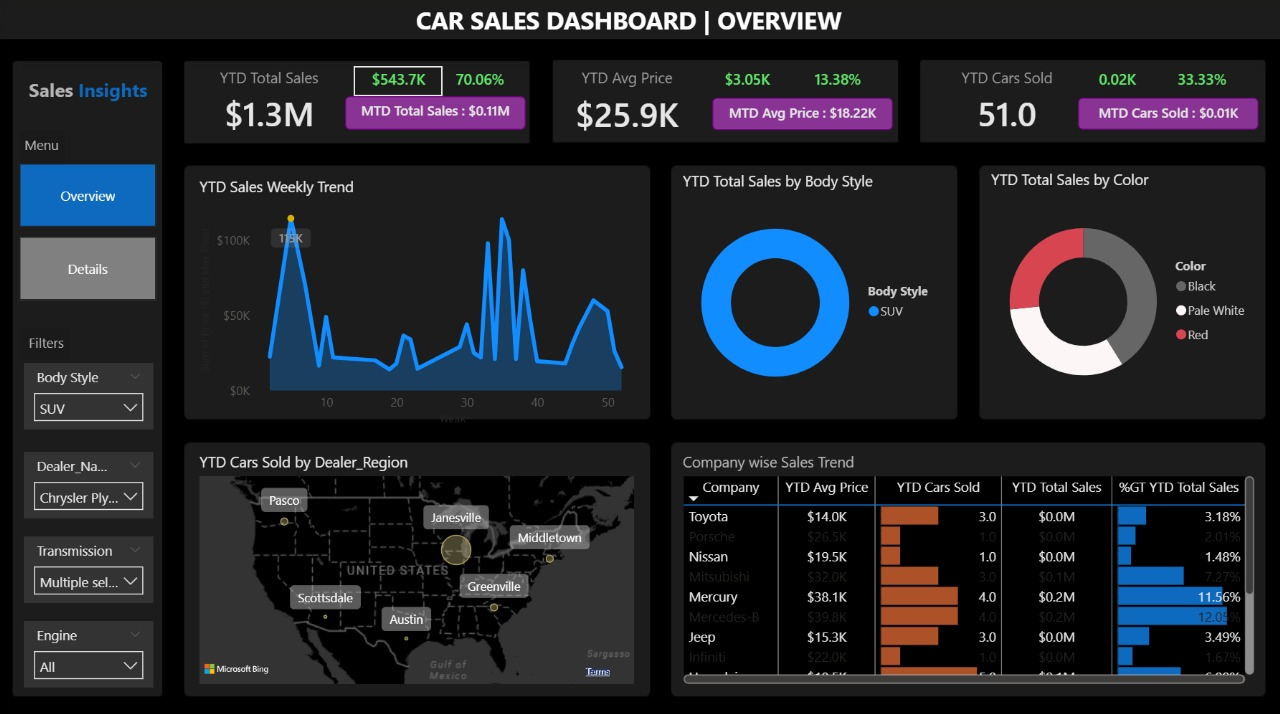

Layout of this report page (visuals, bound fields, positions):
{"tool":"powerbi","page":{"name":"Overview","canvas":[1280,720],"ordinal":0},"visuals":[{"type":"card","title":"YTD Total Sales","fields":{"Values":["car_data.YTD Total Sales"]},"box":[186.9,68.1,168.8,72.5],"z":0},{"type":"card","fields":{"Values":["car_data.Sales Difference"]},"box":[355.6,66.9,89.4,30],"z":1000},{"type":"card","fields":{"Values":["car_data.YoY Sales Growth"]},"box":[437.5,62.5,88.8,38.8],"z":2000},{"type":"card","fields":{"Values":["car_data.MTD KPI"]},"box":[346.5,97.1,180,33.5],"z":3000},{"type":"card","title":"YTD Avg Price","fields":{"Values":["car_data.YTD Avg Price"]},"box":[542.5,68.3,170,73.3],"z":4000},{"type":"card","fields":{"Values":["car_data.Avg Price Diff"]},"box":[702.5,66.7,90,30],"z":5000},{"type":"card","fields":{"Values":["car_data.YoY Avg Price Growth"]},"box":[792.5,66.7,90,30],"z":6000},{"type":"card","fields":{"Values":["car_data.MTD Avg Price KPI"]},"box":[712.5,98.3,180,32.5],"z":7000},{"type":"card","title":"YTD Cars Sold","fields":{"Values":["car_data.YTD Cars Sold"]},"box":[921.4,68.6,170,72.9],"z":8000},{"type":"card","fields":{"Values":["car_data.Cars Sold Diff"]},"box":[1070.7,67.1,90,30],"z":9000},{"type":"card","fields":{"Values":["car_data.YoY Car Sold Growth"]},"box":[1155,67.1,90,30],"z":10000},{"type":"card","fields":{"Values":["car_data.MTD Cars Sold KPI"]},"box":[1076.4,97.9,180,32.1],"z":11000},{"type":"areaChart","title":"YTD Sales Weekly Trend","fields":{"Category":["Calendar.Weak"],"Y":["Sum(car_data.Price ($))","car_data.Max Point"]},"box":[196.7,177.8,454.4,252.2],"z":12000},{"type":"donutChart","fields":{"Category":["car_data.Body Style"],"Y":["car_data.YTD Total Sales"]},"box":[678,172,271.3,243.3],"z":13000},{"type":"donutChart","fields":{"Category":["car_data.Color"],"Y":["car_data.YTD Total Sales"]},"box":[985.7,170,271.4,244.3],"z":14000},{"type":"map","fields":{"Category":["car_data.Dealer_Region"],"Size":["car_data.YTD Cars Sold"]},"box":[196.7,451.3,443.3,236],"z":15000},{"type":"tableEx","title":"Company wise Sales Trend","fields":{"Values":["car_data.Company","car_data.YTD Avg Price","car_data.YTD Cars Sold","car_data.YTD Total Sales1","car_data.YTD Total Sales"]},"box":[678.2,451.3,578.8,235.9],"z":16000},{"type":"textbox","box":[413.1,0,453.9,45.9],"z":17000},{"type":"slicer","fields":{"Values":["car_data.Body Style"]},"box":[26.7,363.3,128.9,66.7],"z":18000},{"type":"slicer","fields":{"Values":["car_data.Dealer_Name"]},"box":[26.7,451.1,128.9,66.7],"z":19000},{"type":"slicer","fields":{"Values":["car_data.Engine"]},"box":[26.7,620,128.9,66.7],"z":20000},{"type":"slicer","fields":{"Values":["car_data.Transmission"]},"box":[26.7,535.6,128.9,66.7],"z":21000},{"type":"textbox","box":[26.7,328.9,45.6,31.1],"z":22000},{"type":"pageNavigator","box":[22.5,165,136.2,137.5],"z":23000},{"type":"textbox","box":[26.9,73.1,138.8,41.2],"z":24000},{"type":"textbox","box":[22.5,131.2,45,31.2],"z":25000}]}

Visuals, with their boxes in screenshot pixels (x1, y1, x2, y2), scaled from the page's 1280x720 canvas onto the 1280x714 screenshot:
"YTD Total Sales" card: (187,68,356,139)
card - car_data.Sales Difference: (356,66,445,96)
card - car_data.YoY Sales Growth: (438,62,526,100)
card - car_data.MTD KPI: (346,96,526,130)
"YTD Avg Price" card: (542,68,712,140)
card - car_data.Avg Price Diff: (702,66,792,96)
card - car_data.YoY Avg Price Growth: (792,66,882,96)
card - car_data.MTD Avg Price KPI: (712,97,892,130)
"YTD Cars Sold" card: (921,68,1091,140)
card - car_data.Cars Sold Diff: (1071,67,1161,96)
card - car_data.YoY Car Sold Growth: (1155,67,1245,96)
card - car_data.MTD Cars Sold KPI: (1076,97,1256,129)
"YTD Sales Weekly Trend" areaChart: (197,176,651,426)
donutChart - car_data.Body Style x car_data.YTD Total Sales: (678,171,949,412)
donutChart - car_data.Color x car_data.YTD Total Sales: (986,169,1257,411)
map - car_data.Dealer_Region x car_data.YTD Cars Sold: (197,448,640,682)
"Company wise Sales Trend" tableEx: (678,448,1257,681)
textbox: (413,0,867,46)
slicer - car_data.Body Style: (27,360,156,426)
slicer - car_data.Dealer_Name: (27,447,156,513)
slicer - car_data.Engine: (27,615,156,681)
slicer - car_data.Transmission: (27,531,156,597)
textbox: (27,326,72,357)
pageNavigator: (22,164,159,300)
textbox: (27,72,166,113)
textbox: (22,130,68,161)
